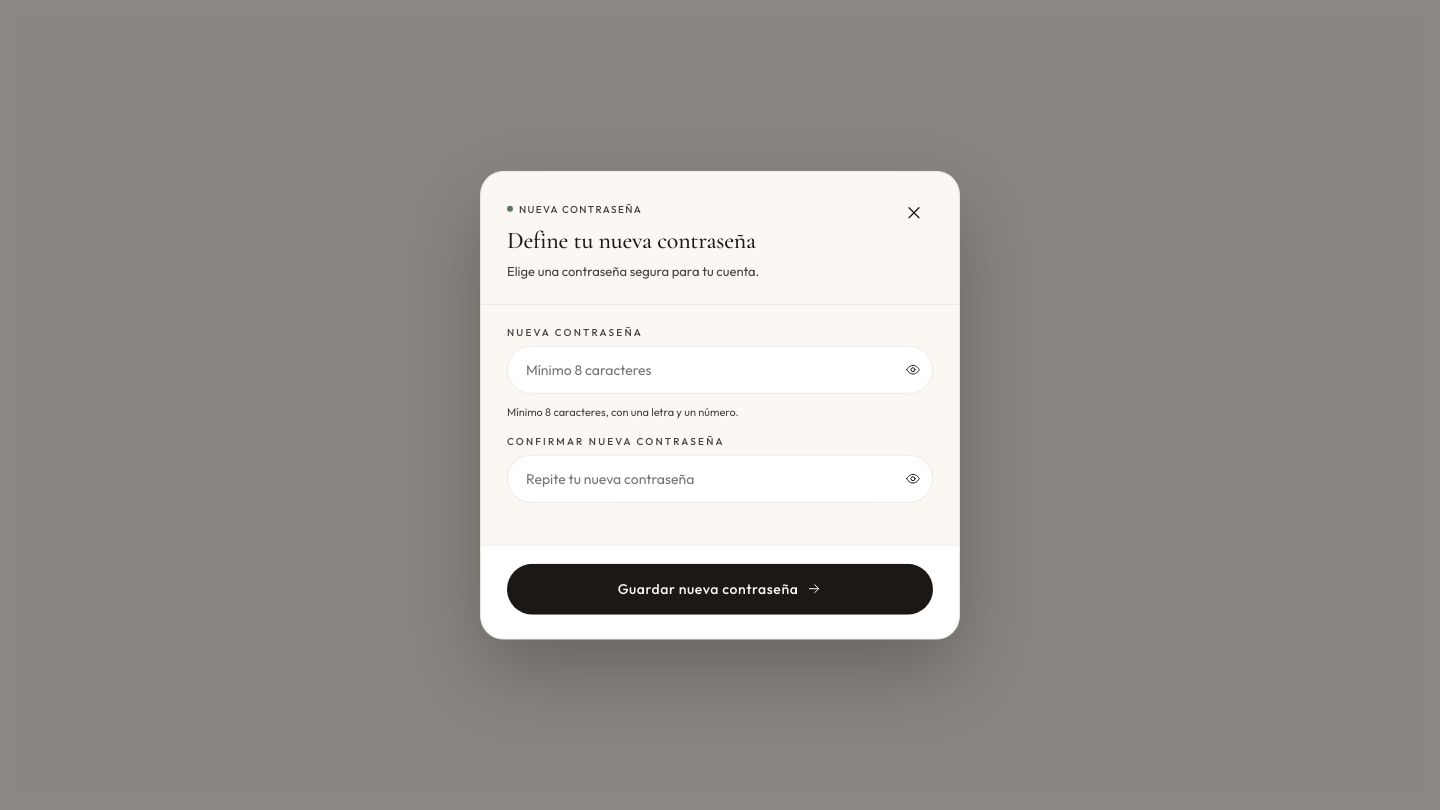
it: ResetPasswordModal › falls back to the invalid-link screen when the token is rejected on submit
The width and height of the screenshot is (1440, 810).
In the password field with placeholder "Mínimo 8 caracteres": (720,369) [507,345,933,393], type "clave1234"
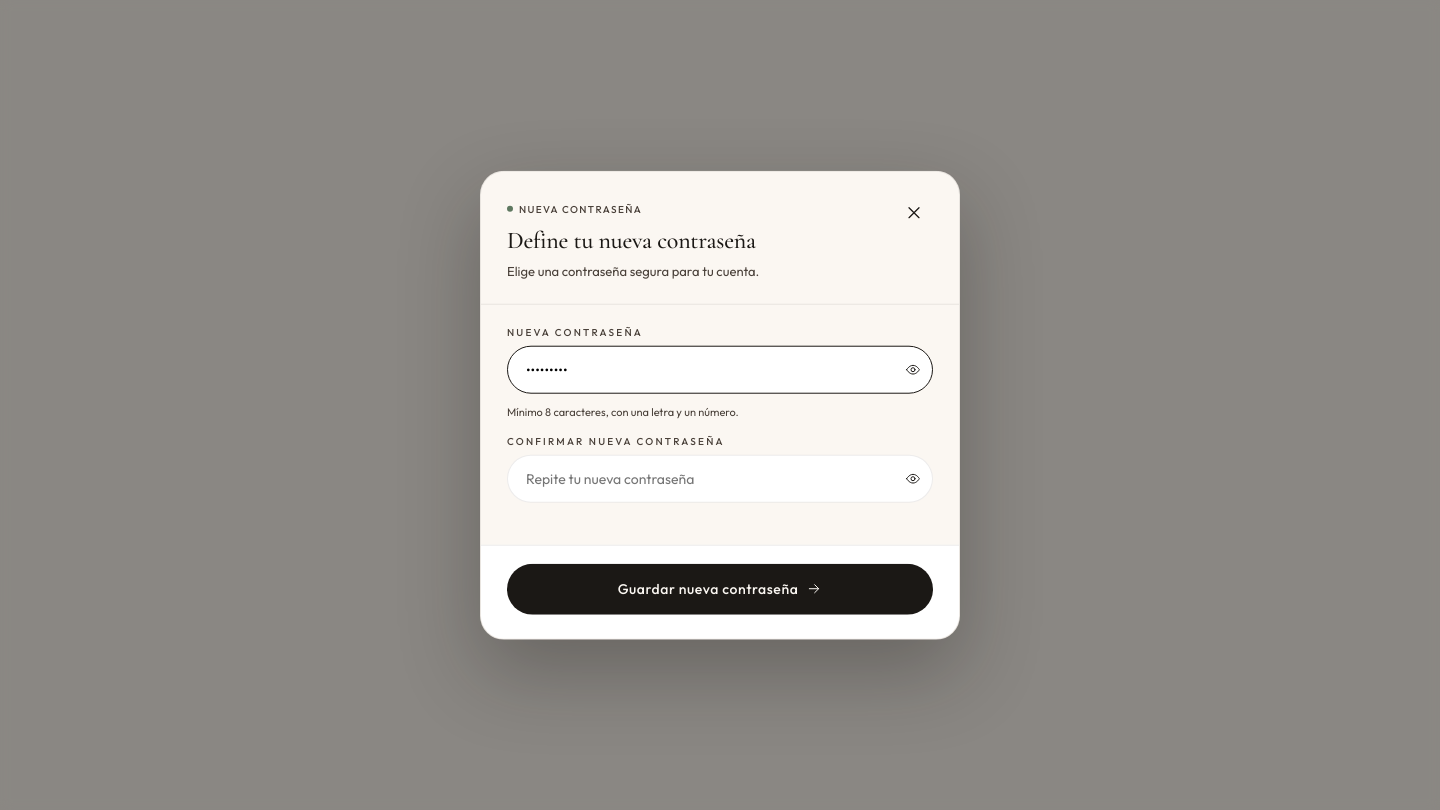
In the password field with placeholder "Repite tu nueva contraseña": (720,478) [507,454,933,502], type "clave1234"
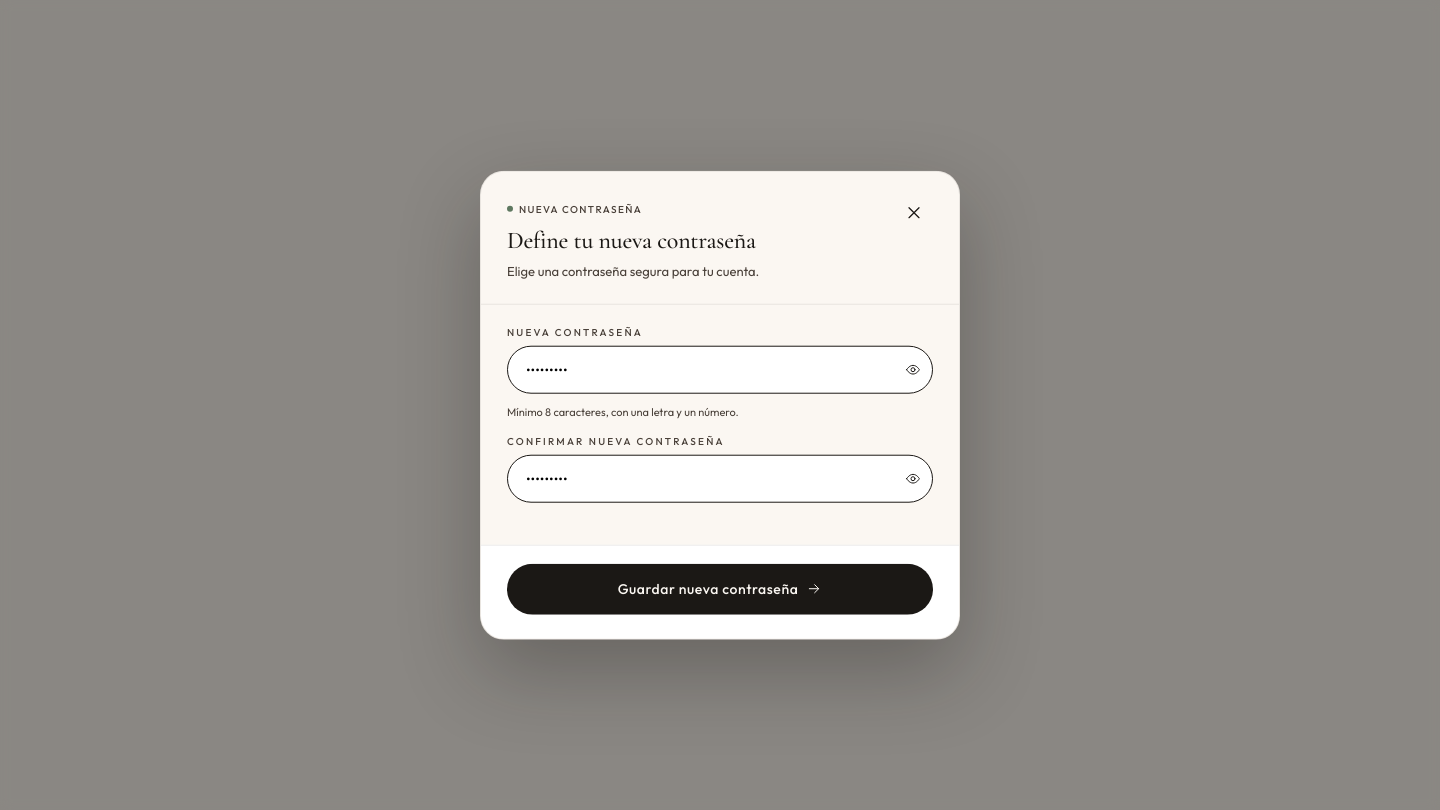
Click the button "Guardar nueva contraseña": (720,589) [507,563,933,614]
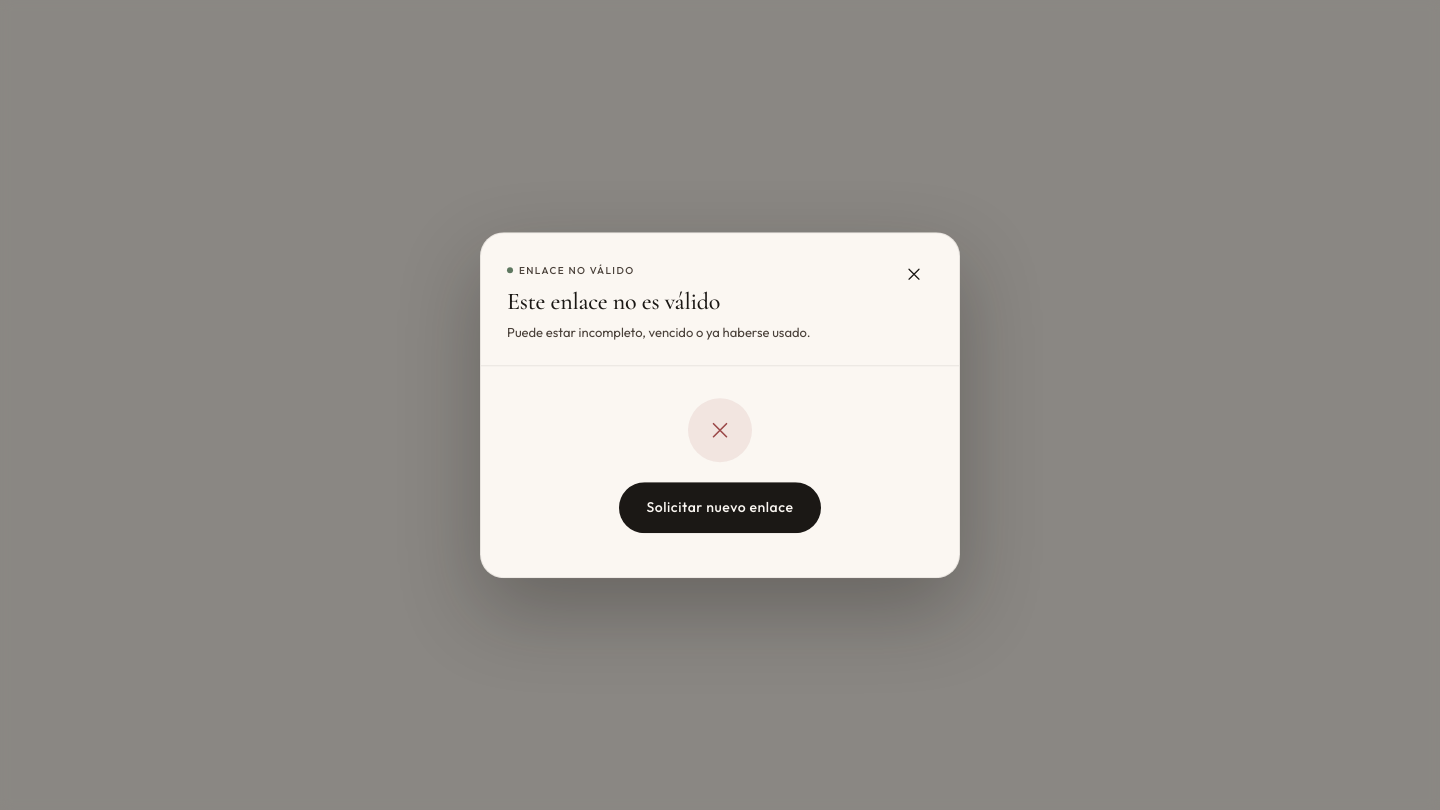
Expected: the text "Este enlace no es válido" is shown, [507,287,720,316]
Expected: the button "Solicitar nuevo enlace" is shown, [619,482,820,533]
